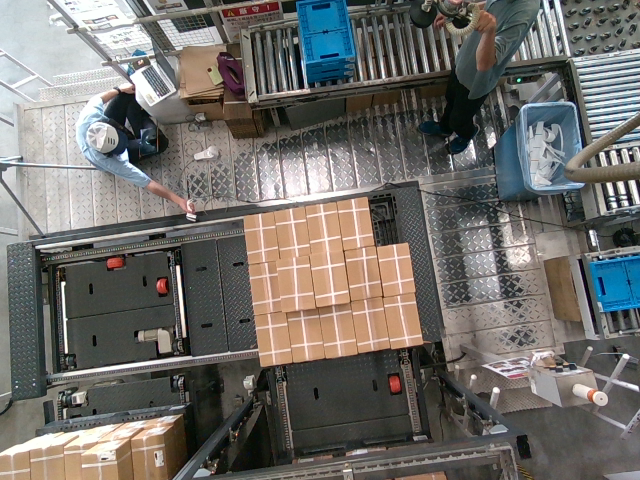box: (382, 291, 420, 349), (304, 199, 343, 253), (271, 206, 310, 260), (276, 253, 312, 311), (344, 244, 383, 296), (376, 241, 414, 293), (320, 301, 354, 359), (288, 308, 324, 362), (313, 251, 347, 307), (338, 194, 372, 250), (241, 211, 277, 263), (354, 297, 386, 355), (258, 310, 289, 368)
